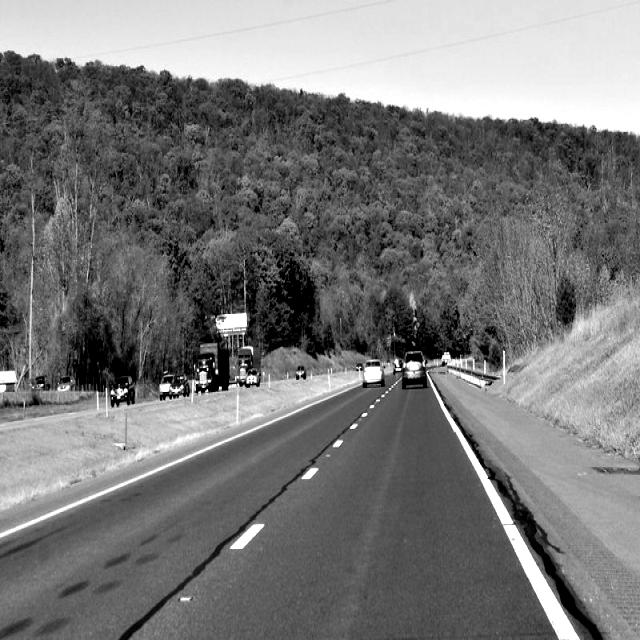cleat: (238, 309, 640, 640)
